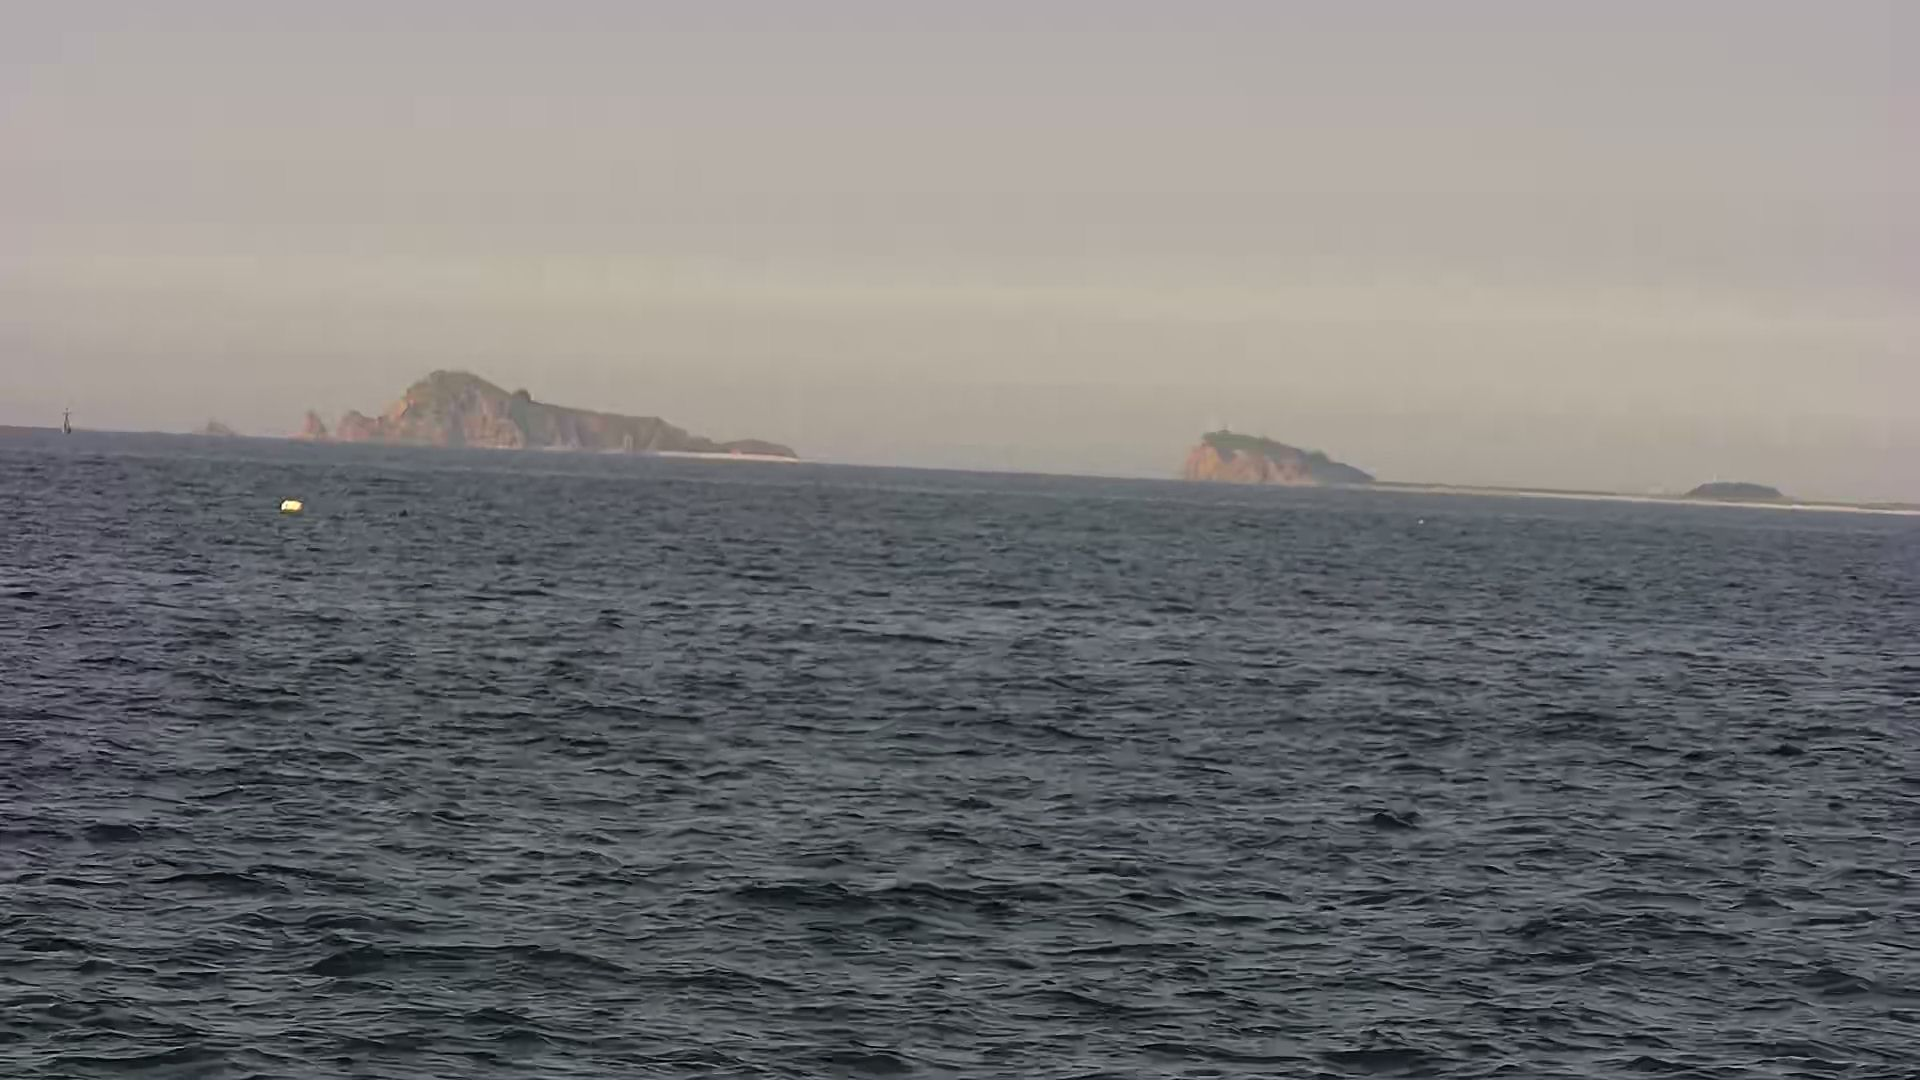rock: (257, 372, 810, 456), (1166, 415, 1420, 493), (1683, 467, 1803, 508)
rubbish: (273, 493, 311, 513)
